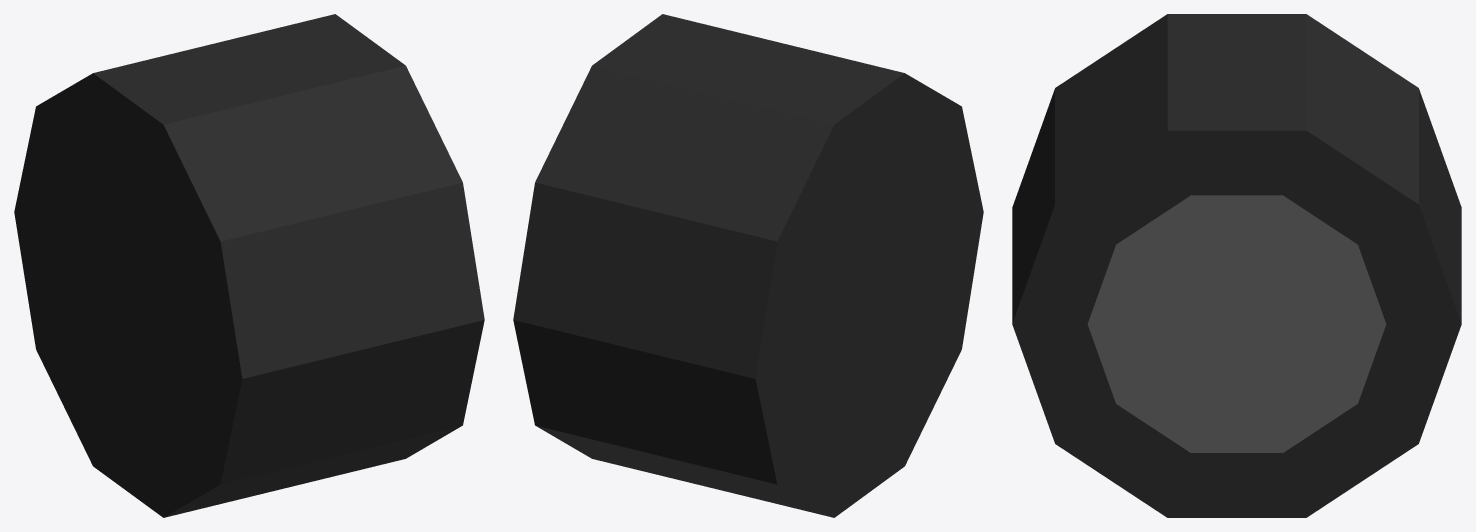
Rendered from Wheel.fbx.
The picture shows the model from 3 angles, left to right: view 1: azimuth 30°, elevation 25°; view 2: azimuth 150°, elevation 25°; view 3: azimuth 270°, elevation 25°; orthographic projection.
Parts seen in each view (by area): view 1: Wheel; view 2: Wheel; view 3: Wheel.
Boxes of the visible parts, x1,y1,x2,y2 form: Wheel: (14,14,484,517); Wheel: (513,14,983,517); Wheel: (1012,14,1461,517).
Bounding box in the file's own units: 0.2634 × 0.4084 × 0.4294.
